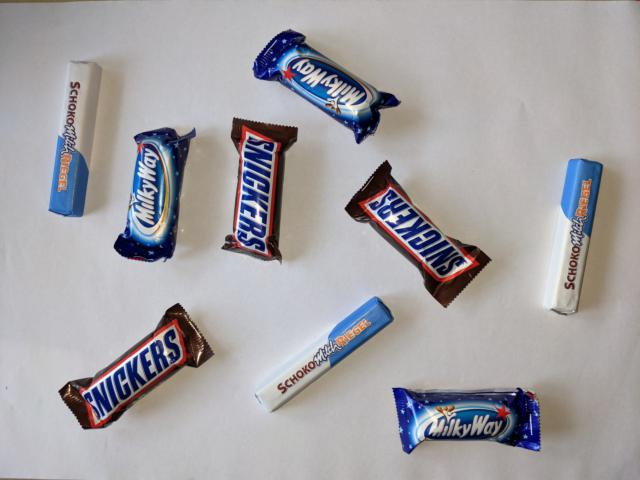MilkyWay: (249, 26, 405, 147), (110, 123, 200, 265), (388, 384, 545, 458)
Schokoriegel: (249, 295, 396, 418), (539, 156, 605, 318), (43, 57, 106, 219)
Snickers: (342, 158, 495, 310), (56, 301, 217, 433), (216, 115, 301, 267)
